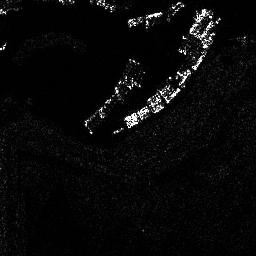ship: (125, 11, 164, 27)
